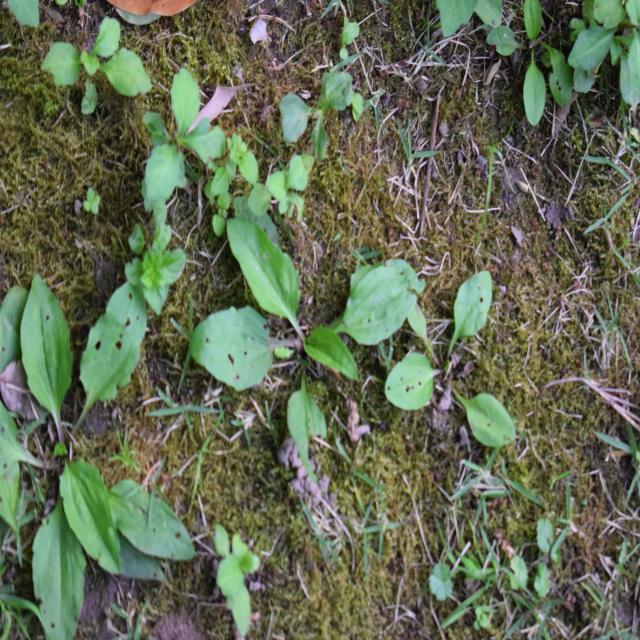plantain: (0, 286, 193, 596), (214, 217, 422, 463), (394, 244, 495, 477)
